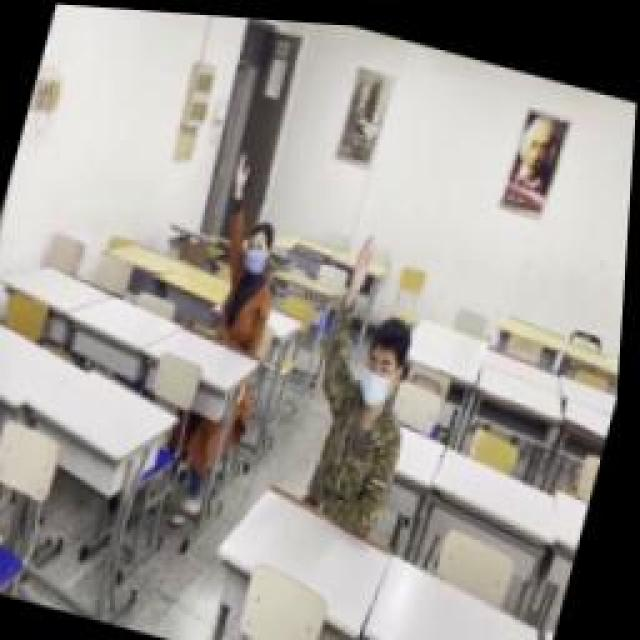study: (290, 233, 445, 525), (197, 150, 305, 348)
